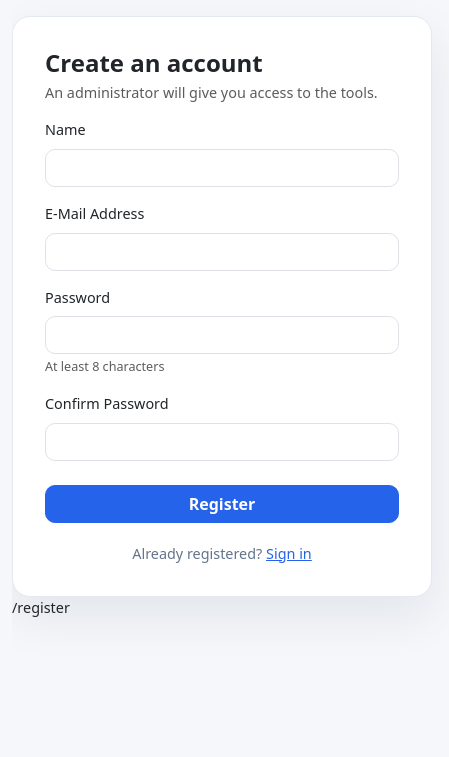
Test case: Register › asks for at least 8 characters and shows server validation
The image size is (449, 757).
Expected: the text "At least 8 characters" is shown, [45,358,164,375]
Type "New" into the field labelled "Name" at (222, 168), box [45,149,399,187]
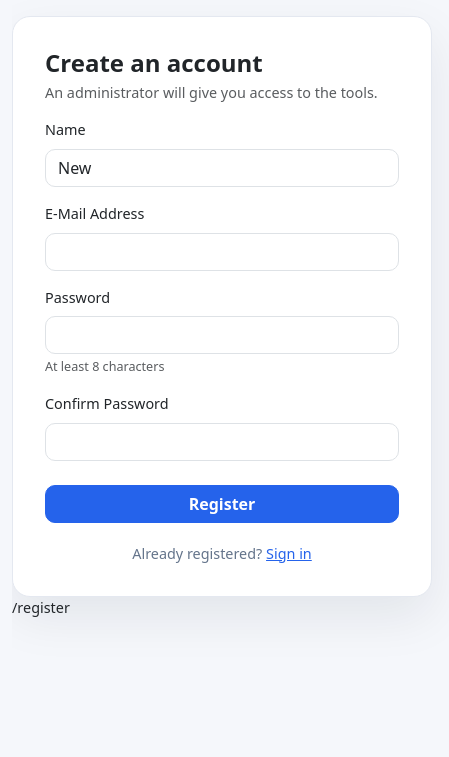
Type "n@example.com" into the field labelled "E-Mail Address" at (222, 252), box [45,233,399,271]
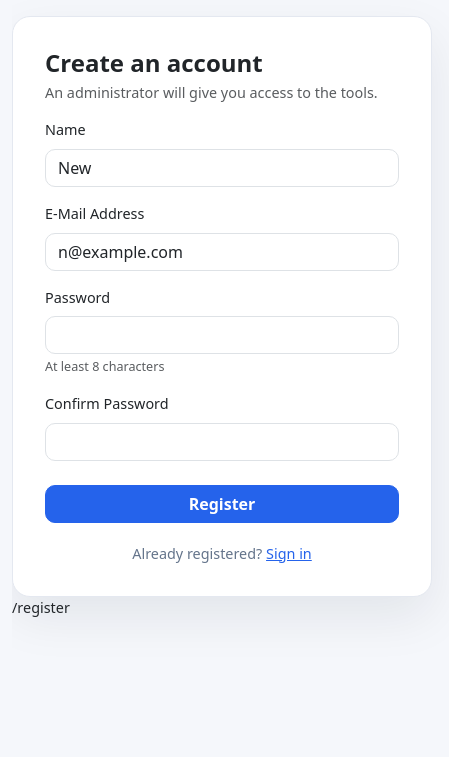
Type "password123" into the password field labelled "Password" at (222, 335), box [45,316,399,354]
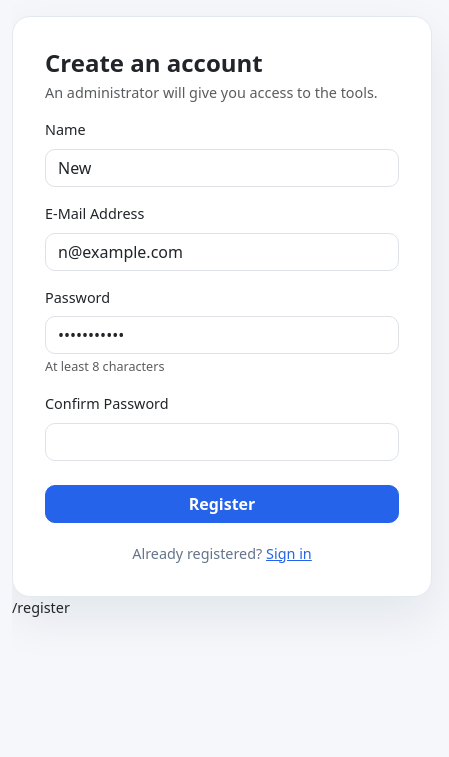
Type "password123" into the password field labelled "Confirm Password" at (222, 442), box [45,423,399,461]
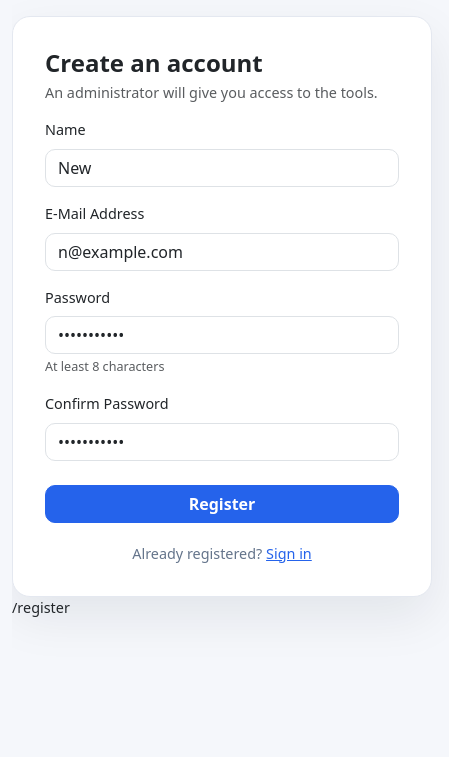
Click the button "Register" at (222, 504), box [45,485,399,523]
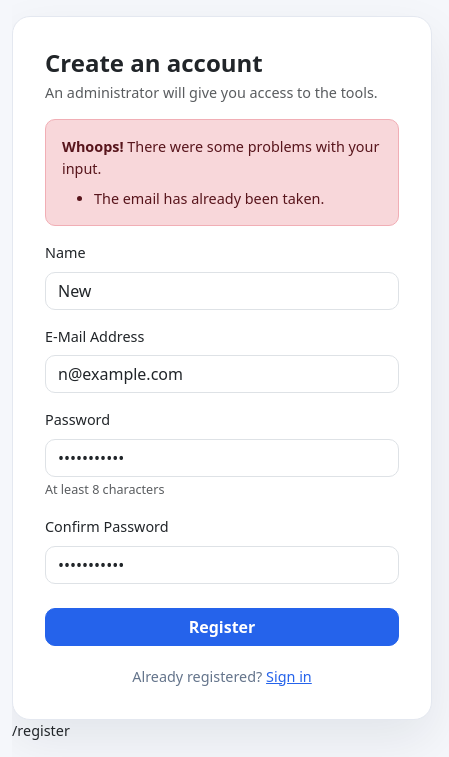
Now the list item "The email has already been taken." is shown, box [94,189,324,208]
